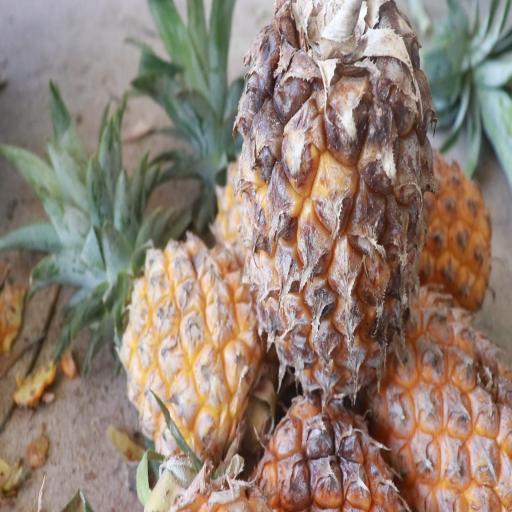Pineapple - v8 v1: (230, 9, 432, 402), (114, 214, 283, 477), (373, 270, 512, 507)
